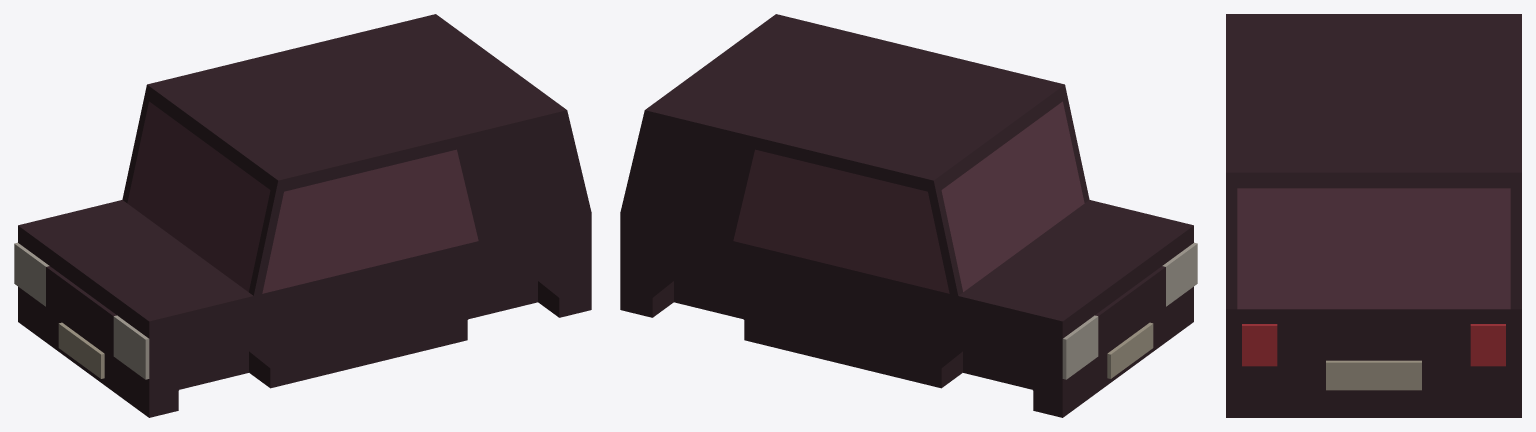
Rendered from Suv_Black.fbx.
3 renders of one model, left to right at view 1: azimuth 30°, elevation 25°; view 2: azimuth 150°, elevation 25°; view 3: azimuth 270°, elevation 25°, orthographic. The views are drawn at different scales.
Parts seen in each view (by area): view 1: Suv_Black, Suv_Lights; view 2: Suv_Black, Suv_Lights; view 3: Suv_Black, Suv_Lights.
Boxes of the visible parts, <box> form: Suv_Black: <box>18,14,591,417</box>; Suv_Lights: <box>14,242,149,379</box>; Suv_Black: <box>620,14,1193,417</box>; Suv_Lights: <box>1062,242,1197,379</box>; Suv_Black: <box>1226,14,1521,417</box>; Suv_Lights: <box>1242,324,1505,366</box>.
Bounding box in the file's own units: 3.66 × 1.6 × 1.85.
